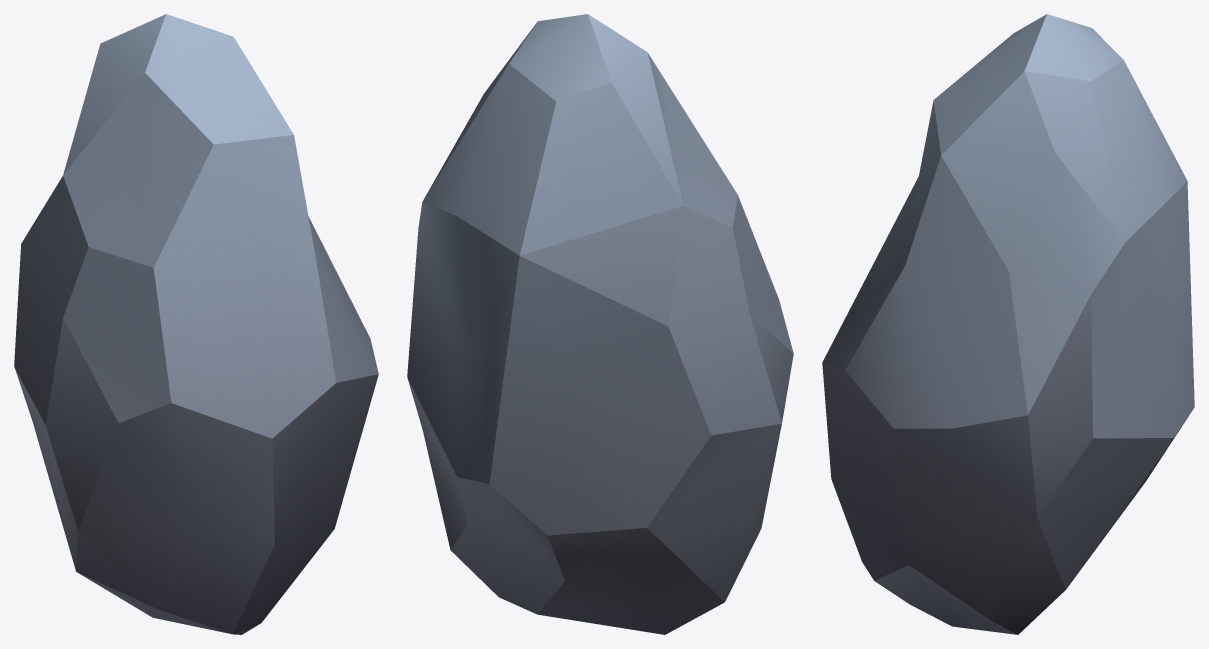
File: SM_Rock_04.fbx
3 renders of one model, left to right at view 1: azimuth 30°, elevation 25°; view 2: azimuth 150°, elevation 25°; view 3: azimuth 270°, elevation 25°, orthographic. The views are drawn at different scales.
Parts seen in each view (by area): view 1: Rock.003; view 2: Rock.003; view 3: Rock.003.
Boxes of the visible parts, x1,y1,x2,y2 form: Rock.003: [14, 14, 378, 634]; Rock.003: [407, 14, 793, 634]; Rock.003: [822, 14, 1194, 634].
Size of the model in its own units: 264 by 466 by 264.
